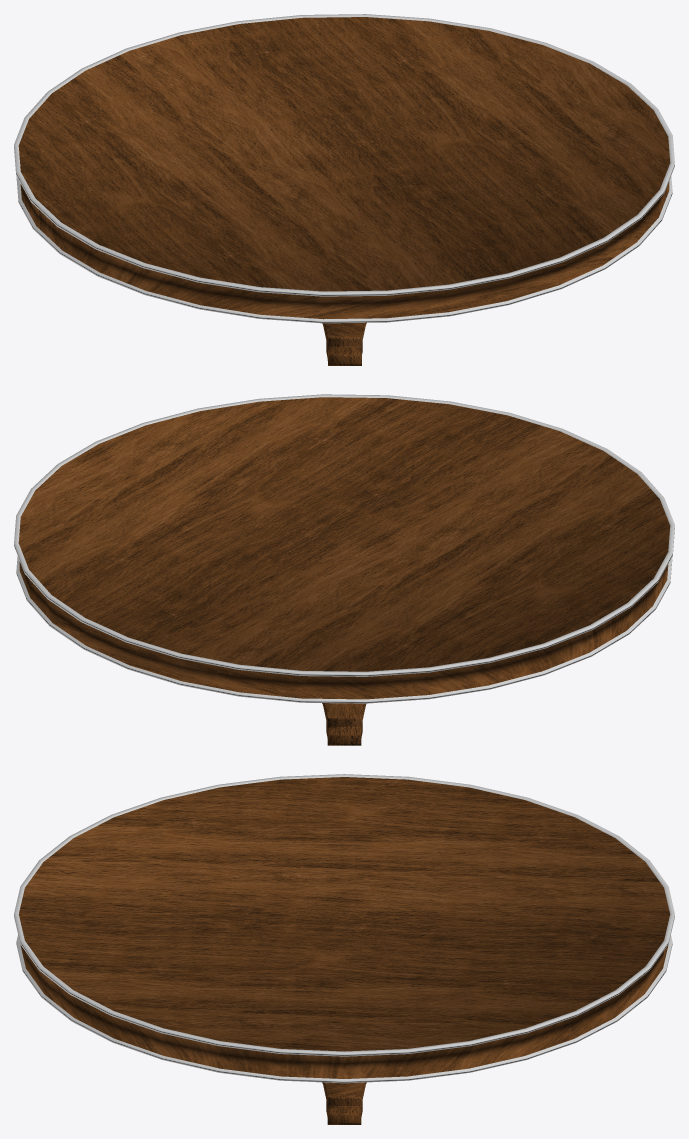
The model's file is table.fbx.
3 renders of one model, top to bottom at view 1: azimuth 30°, elevation 25°; view 2: azimuth 150°, elevation 25°; view 3: azimuth 270°, elevation 25°, orthographic.
Parts seen in each view (by area): view 1: Circle, orig.003; view 2: Circle, orig.003; view 3: Circle, orig.003.
Part boxes in pixels (bbox=[...]): Circle: bbox=[14, 14, 674, 323]; orig.003: bbox=[322, 322, 366, 365]; Circle: bbox=[14, 394, 674, 703]; orig.003: bbox=[322, 703, 366, 745]; Circle: bbox=[14, 774, 674, 1083]; orig.003: bbox=[322, 1082, 366, 1124].
Size of the model in its own units: 414 by 84.12 by 414.
